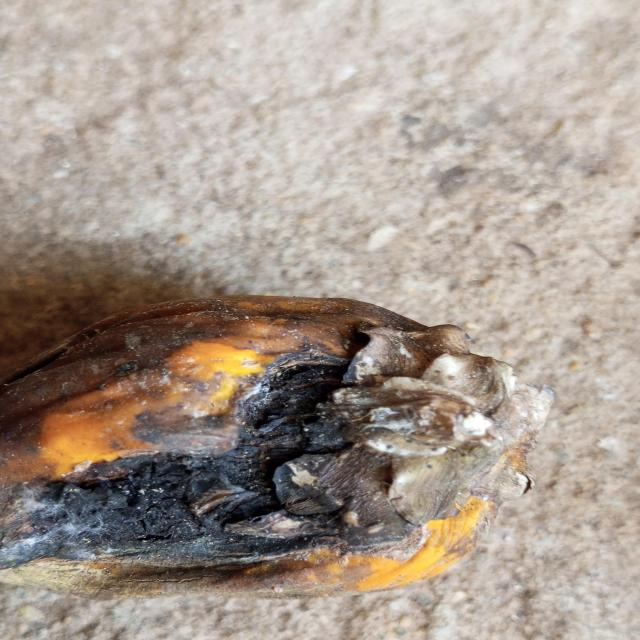damaged: (0, 296, 555, 640)
